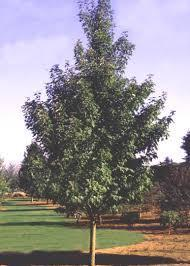tree: (17, 1, 173, 264)
